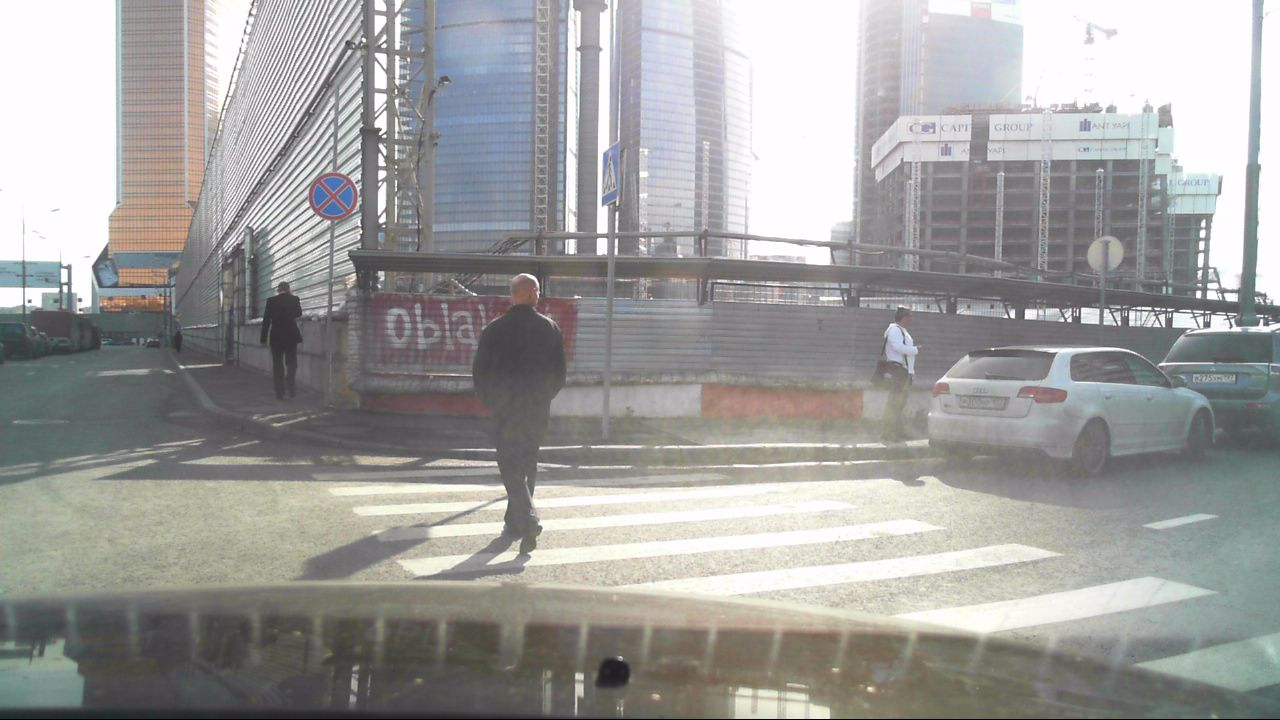No Parking: (303, 169, 360, 220)
